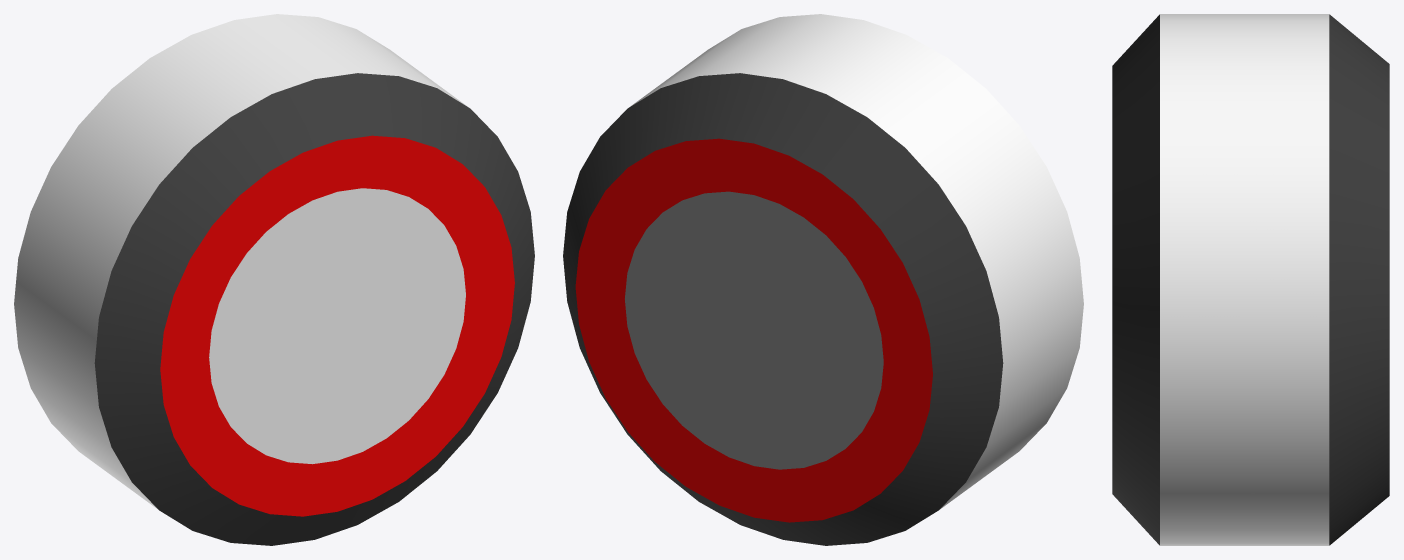
File: connector.obj
3 views of the same model, side by side, from view 1: azimuth 30°, elevation 25°; view 2: azimuth 150°, elevation 25°; view 3: azimuth 270°, elevation 25° (orthographic). The views are drawn at different scales.
Parts seen in each view (by area): view 1: Cylinder012; view 2: Cylinder012; view 3: Cylinder012.
Boxes of the visible parts, left/top/right/bottom form: Cylinder012: left=14, top=14, right=534, bottom=545; Cylinder012: left=563, top=14, right=1083, bottom=545; Cylinder012: left=1112, top=14, right=1389, bottom=545.
Size of the model in its own units: 0.5568 by 0.5568 by 0.2898.
